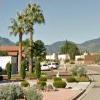Palm tree: (5, 2, 45, 81)
